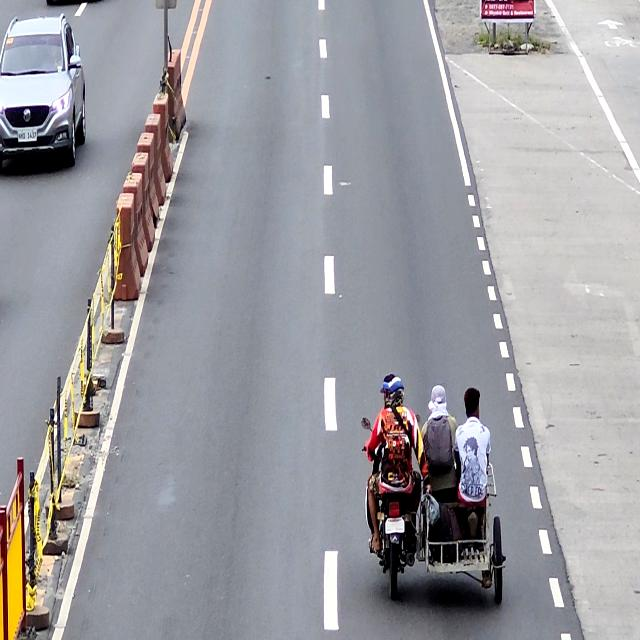License-Plate: (384, 518, 406, 536)
Tricycle: (361, 414, 507, 605)
